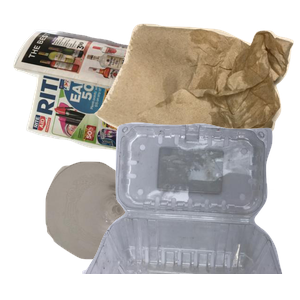glass: (43, 159, 187, 300)
paper: (11, 27, 213, 185)
plastic: (80, 120, 300, 300)
trash: (92, 21, 300, 201)
